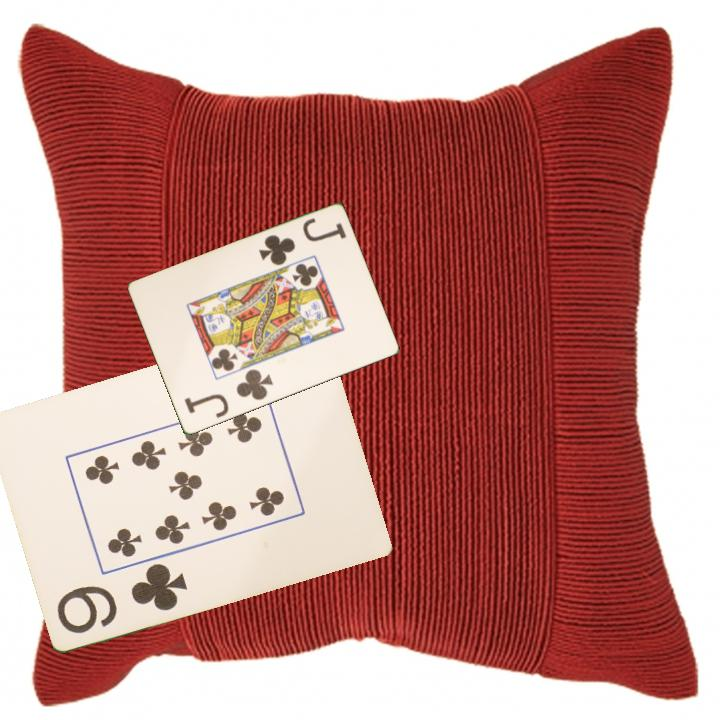9c: (53, 559, 191, 636)
Jc: (181, 366, 276, 421), (255, 215, 349, 269)
